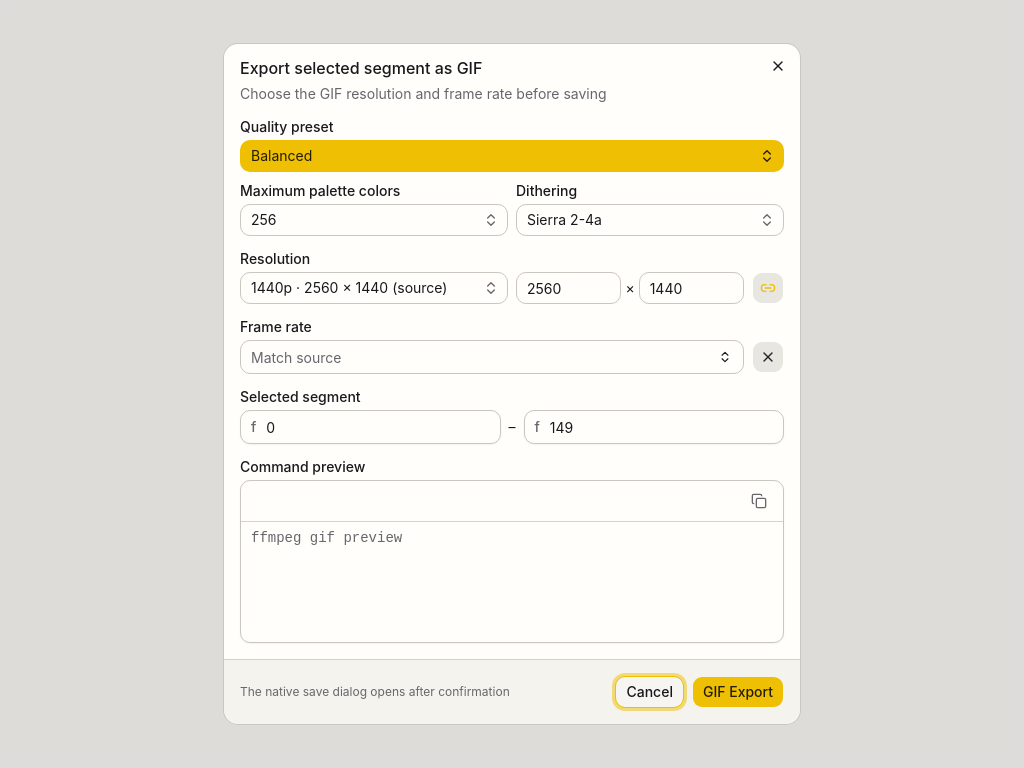
Test case: ExportDialog › uses crop-aware shared resolution controls for GIF without planning optimized export
Expected: the element with test id "gif-export-options" is shown, top-left (240, 120), bottom-right (784, 236)
Expected: the heading "Export selected segment as GIF" is shown, top-left (240, 58), bottom-right (482, 78)
Replace the text in the number field named "Width" with "1920" at (569, 288), box top-left (516, 272), bottom-right (621, 304)
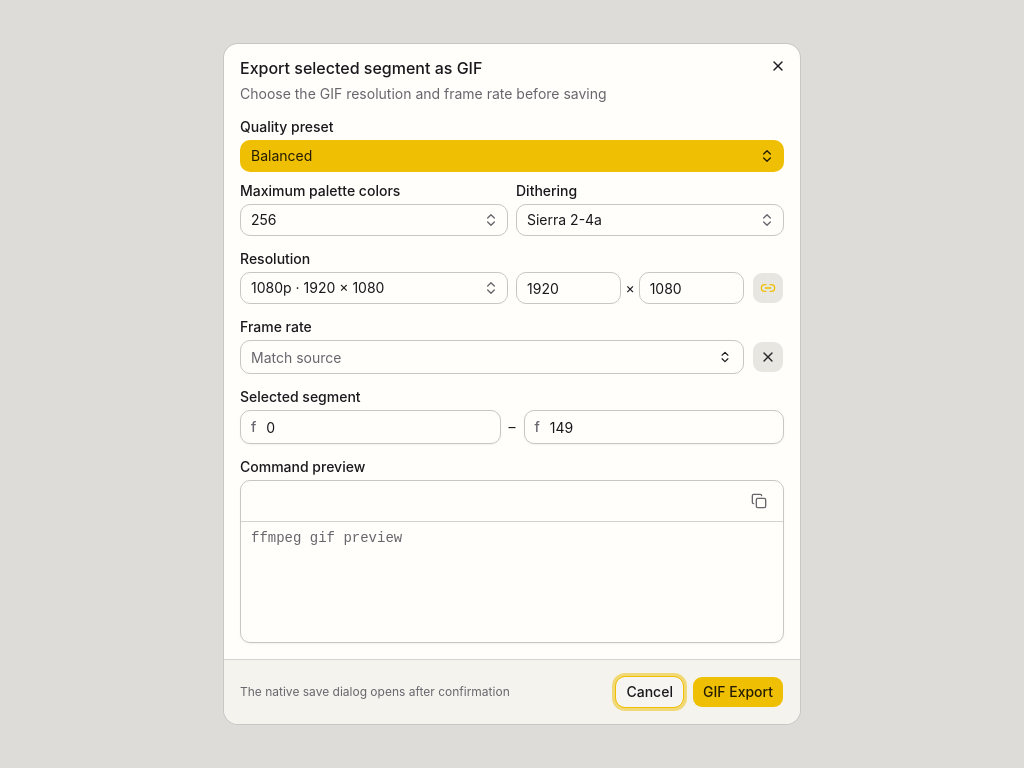
Expected: the number field named "Height" holds "1080", top-left (639, 272), bottom-right (744, 304)
